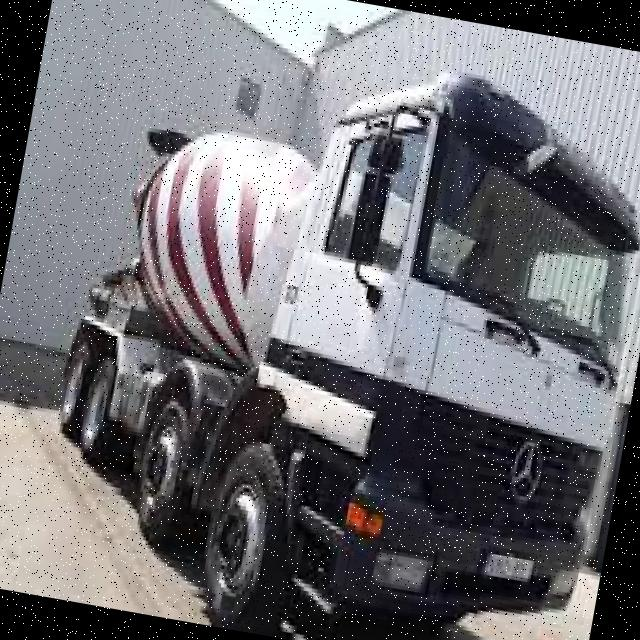Mixer Truck: (24, 5, 640, 640)
